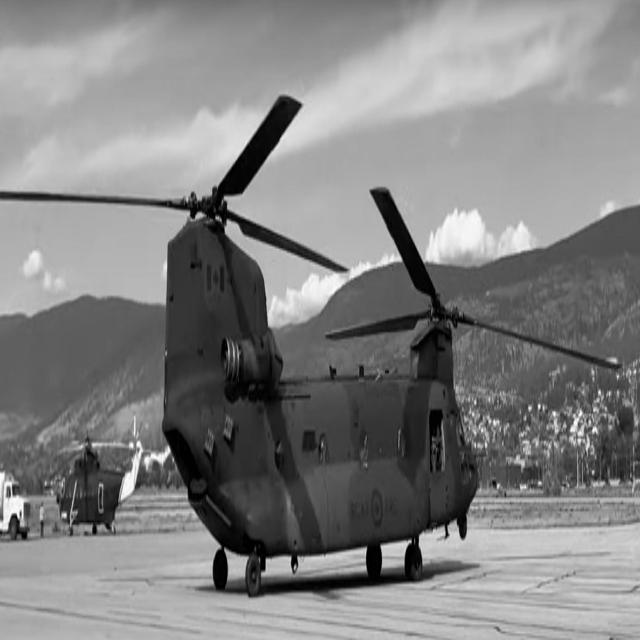Helicopter: (0, 97, 620, 597)
